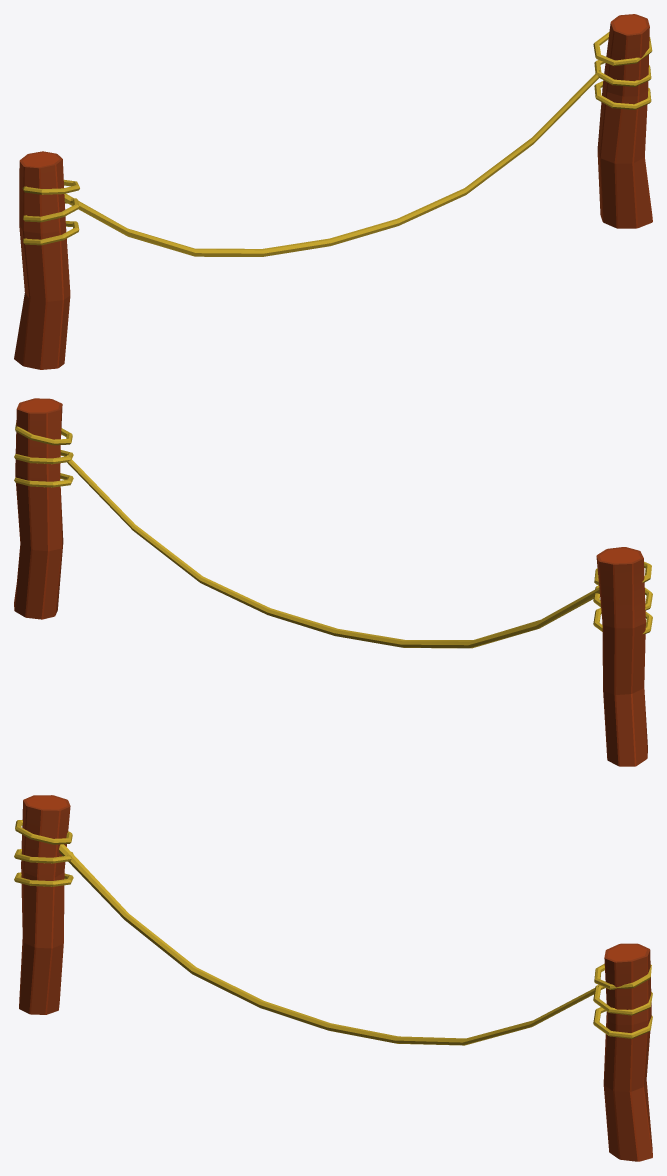
File: log_trap2.fbx
3 renders of one model, top to bottom at view 1: azimuth 30°, elevation 25°; view 2: azimuth 150°, elevation 25°; view 3: azimuth 330°, elevation 25°, orthographic.
Visible parts, largest first — view 1: rope; view 2: rope; view 3: rope.
Part boxes in pixels (x1,y1,x2,y2): rope: [14, 14, 652, 369]; rope: [14, 398, 652, 766]; rope: [14, 795, 652, 1161].
Bounding box in the file's own units: 442 × 134 × 36.45.
